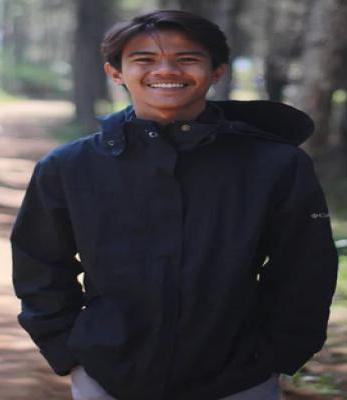no hat: (68, 1, 264, 149)
no vest: (14, 98, 347, 400)
